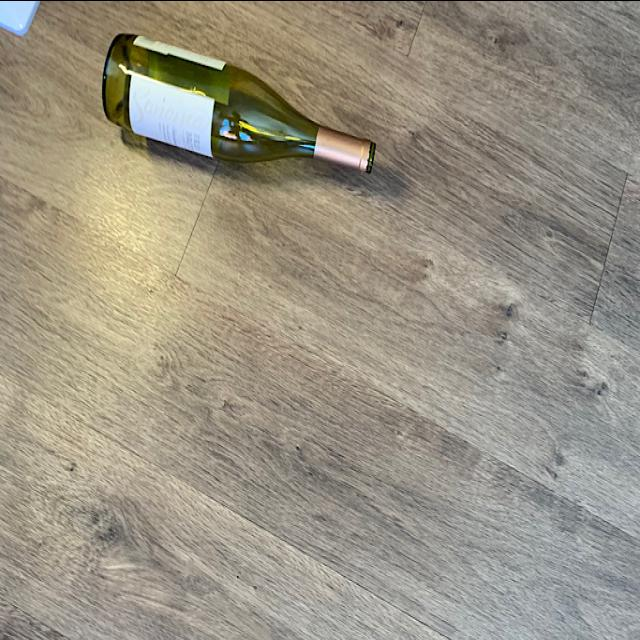litter: (100, 31, 380, 178)
